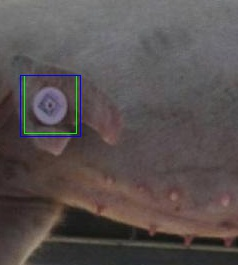text: (24, 75, 76, 133)
